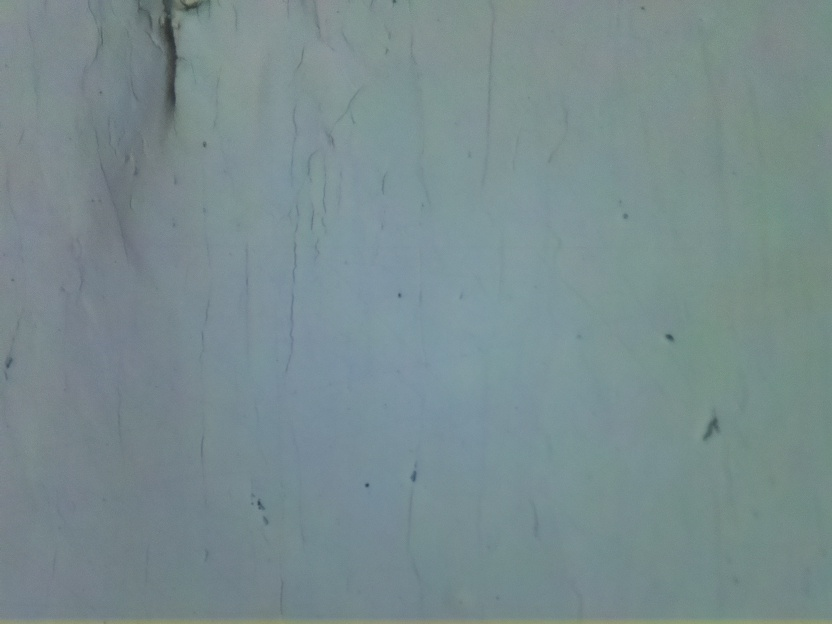crack: (155, 0, 200, 106)
